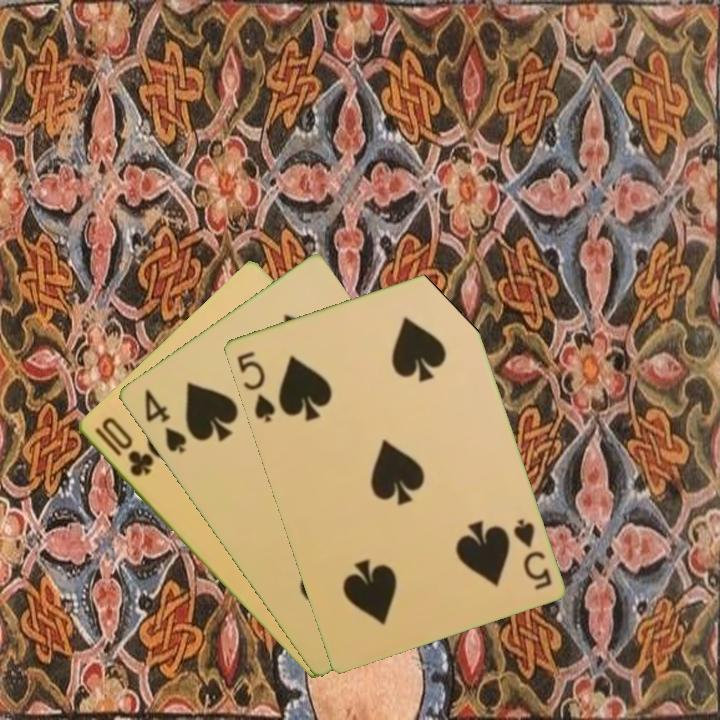10c: (90, 413, 156, 480)
4s: (140, 385, 189, 456)
5s: (232, 347, 278, 425), (509, 515, 554, 593)
